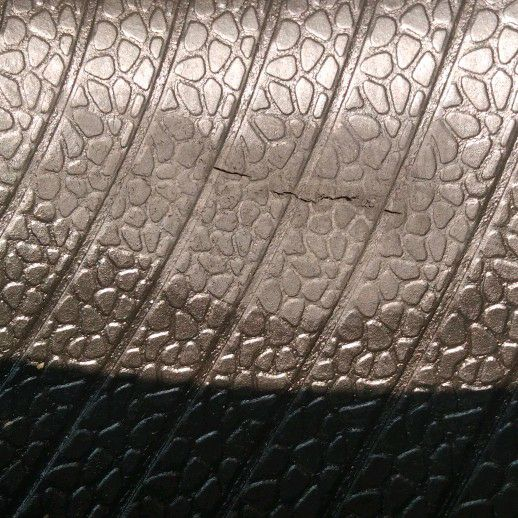CBU: (206, 162, 377, 212)
